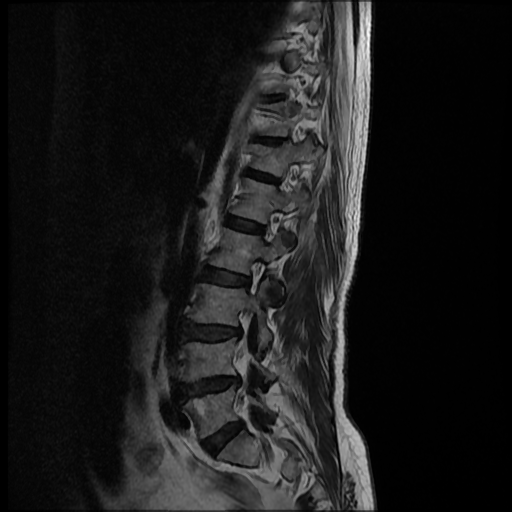RFS0: (235, 252, 274, 299), (254, 203, 288, 249)
